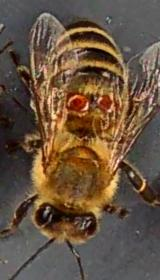varroa_mite: (56, 88, 91, 115), (96, 87, 114, 117)
